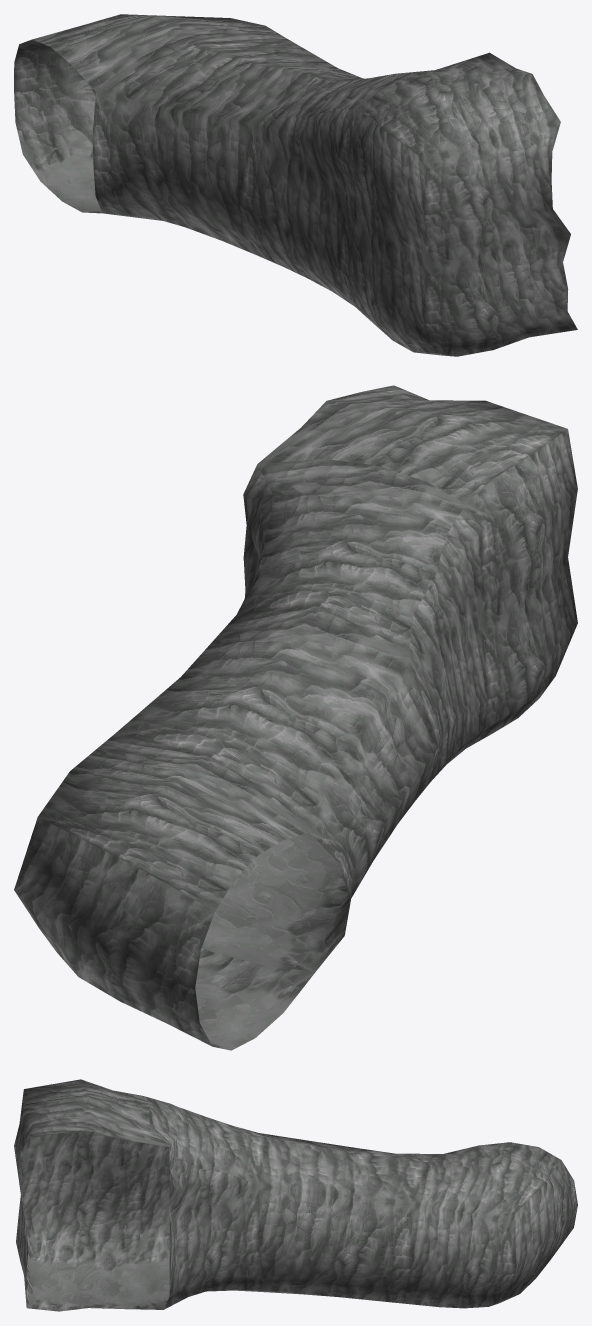
The model's file is SWORDLIGHT20_PS-AREA01-02TRANS_01.fbx.
3 views of the same model, one above another, from view 1: azimuth 30°, elevation 25°; view 2: azimuth 150°, elevation 25°; view 3: azimuth 270°, elevation 25° (orthographic). The views are drawn at different scales.
Parts seen in each view (by area): view 1: SWORDLIGHT20_PS-AREA01-02TRANS_01; view 2: SWORDLIGHT20_PS-AREA01-02TRANS_01; view 3: SWORDLIGHT20_PS-AREA01-02TRANS_01.
Part boxes in pixels (<box>): SWORDLIGHT20_PS-AREA01-02TRANS_01: <box>14,14,577,356</box>; SWORDLIGHT20_PS-AREA01-02TRANS_01: <box>14,385,577,1050</box>; SWORDLIGHT20_PS-AREA01-02TRANS_01: <box>14,1079,577,1311</box>.
Size of the model in its own units: 107903 by 114588 by 272232.
3 materials, 3 textured.
